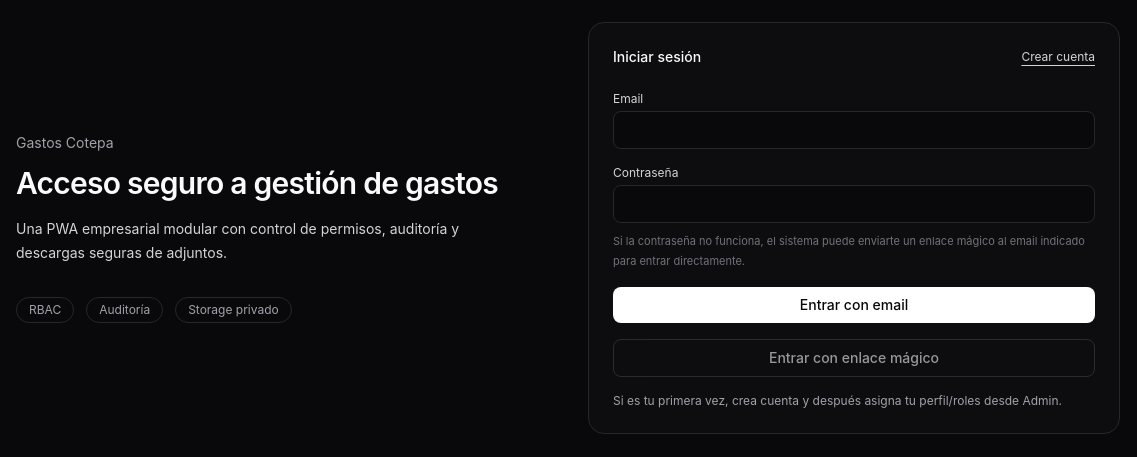
smoke › muestra ayuda específica cuando el enlace mágico no se puede enviar
Step 1. Click the button "Crear cuenta" → [1058, 57], box 1021,49 -> 1095,65
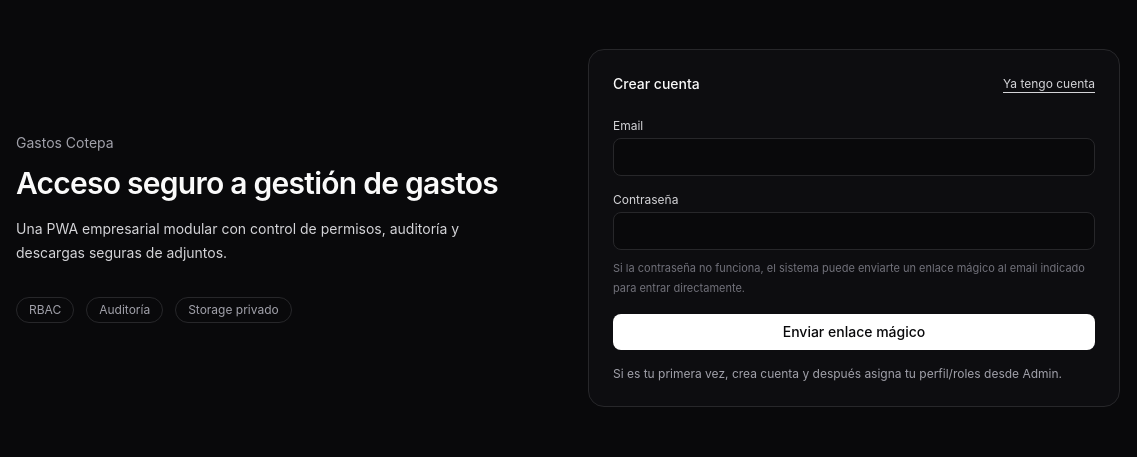
Step 2. Type "user@test.local" into the field labelled "Email" → [854, 157], box 613,138 -> 1095,176
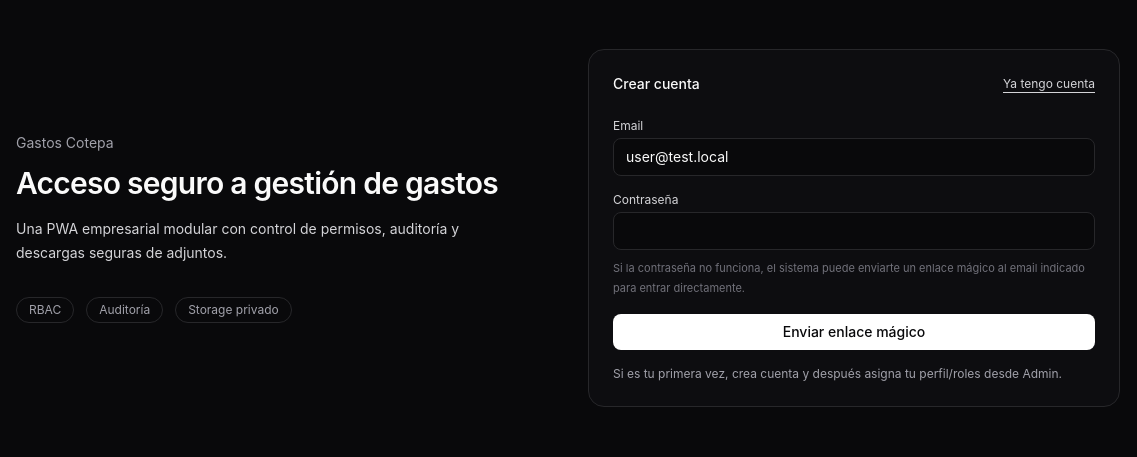
Step 3. Type "password123" into the password field labelled "Contraseña" → [854, 231], box 613,212 -> 1095,250
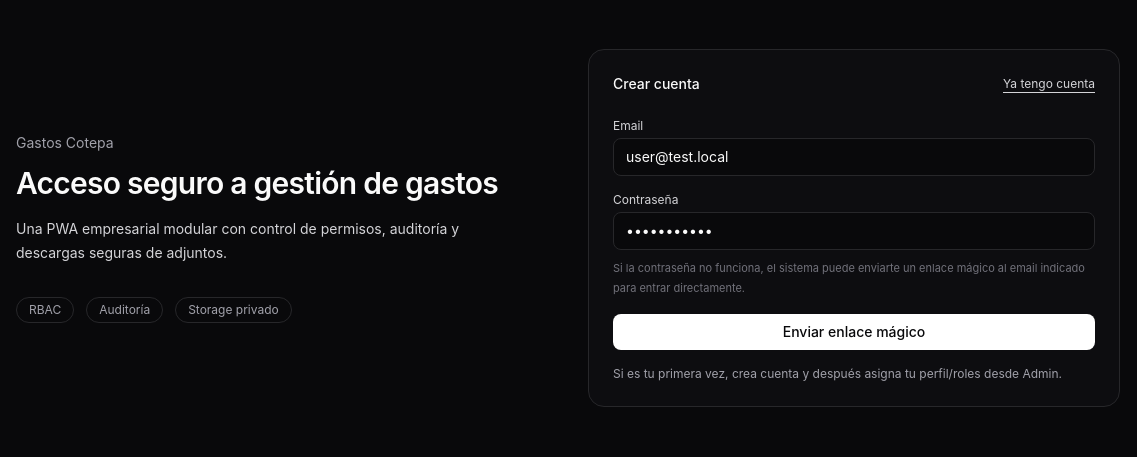
Step 4. Click the button "Enviar enlace mágico" → [854, 332], box 613,314 -> 1095,350
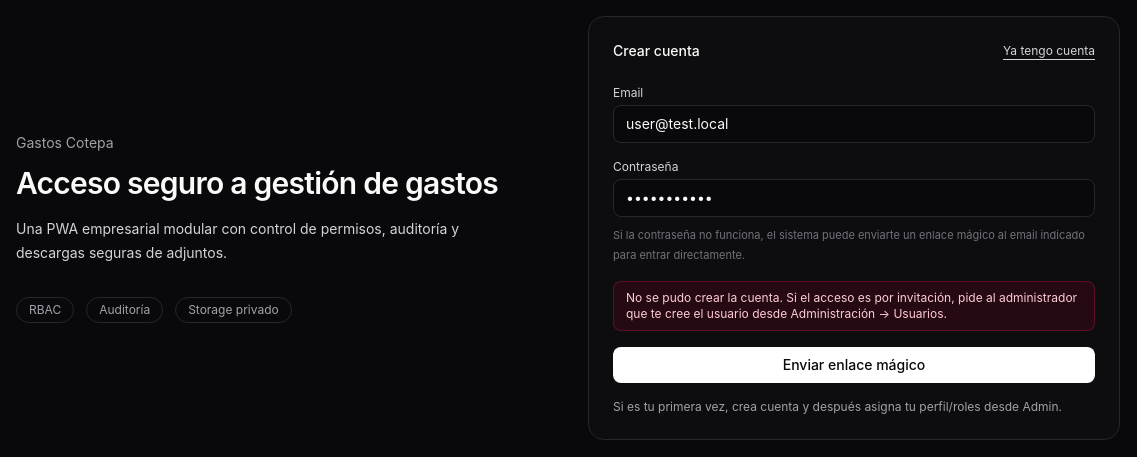
expect the text "No se pudo crear la cuenta" is shown: met, box 626,290 -> 1077,321
